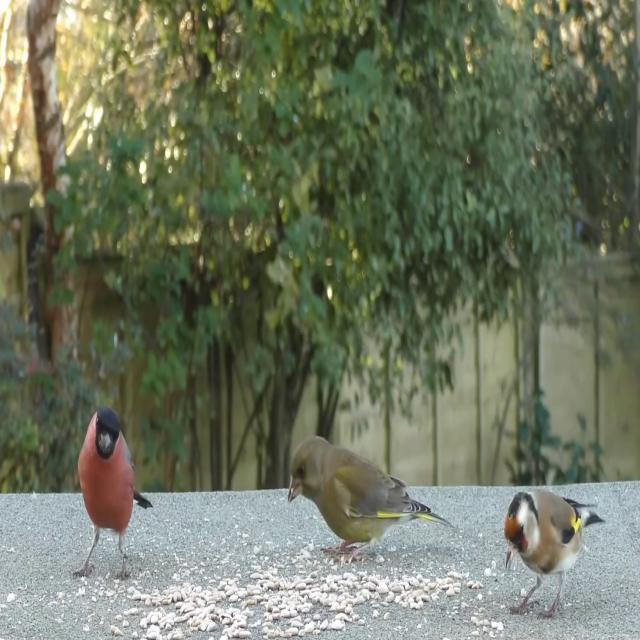beak: (284, 467, 300, 506), (502, 534, 516, 575), (96, 429, 114, 456)
bird: (284, 432, 458, 564), (502, 485, 607, 620), (76, 409, 152, 584)
